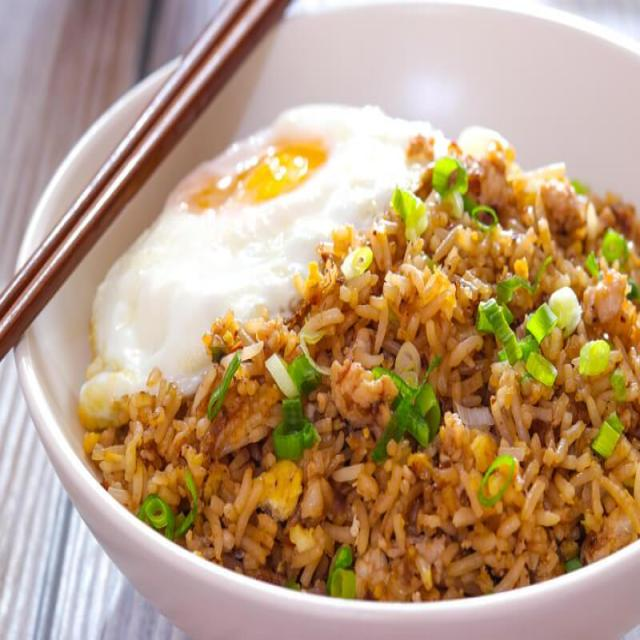Nasi Goreng: (80, 110, 638, 600)
